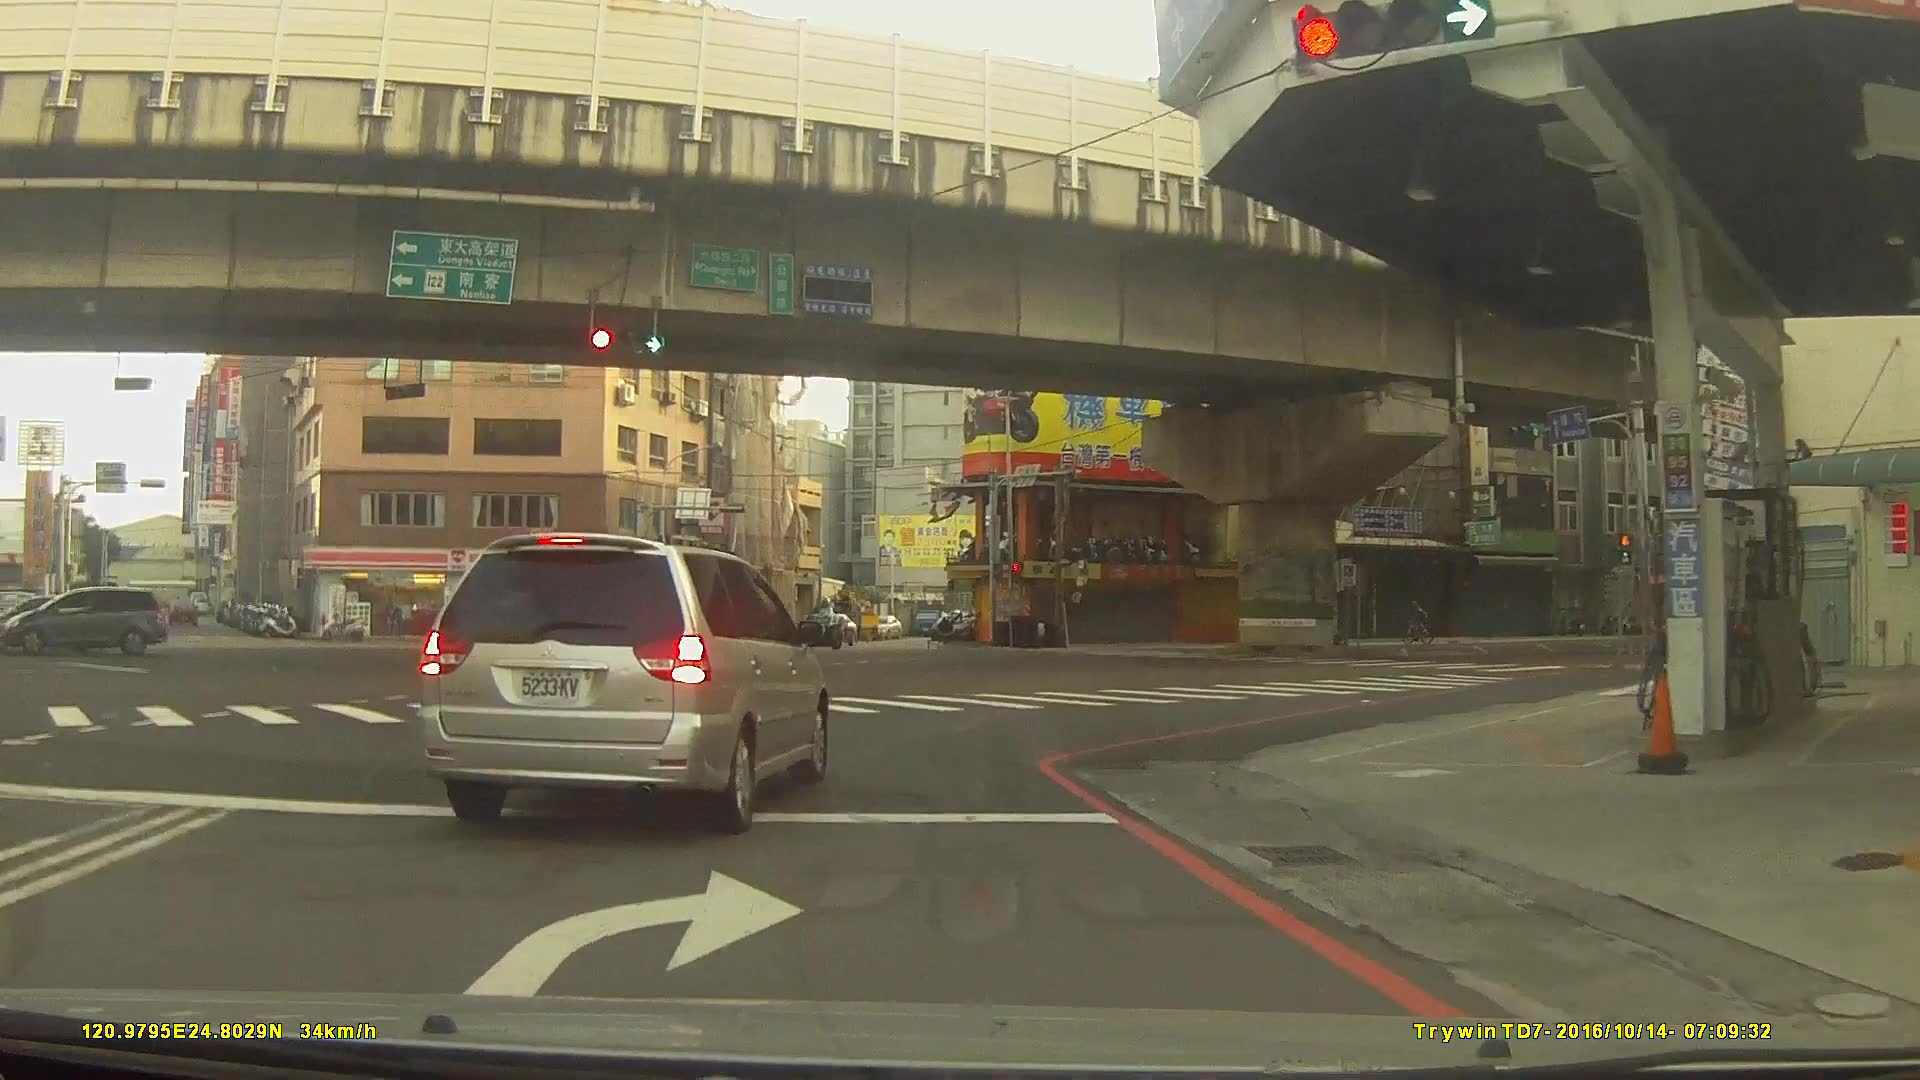rider: (785, 597, 841, 647)
vehicle: (421, 531, 831, 834), (5, 585, 165, 655), (800, 611, 861, 647), (543, 606, 605, 633), (165, 597, 198, 629)
